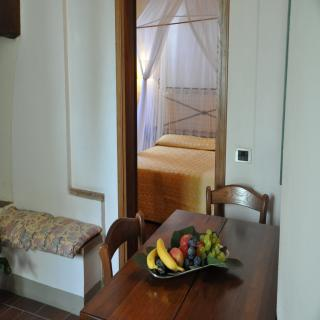Grape: (200, 229, 226, 262)
